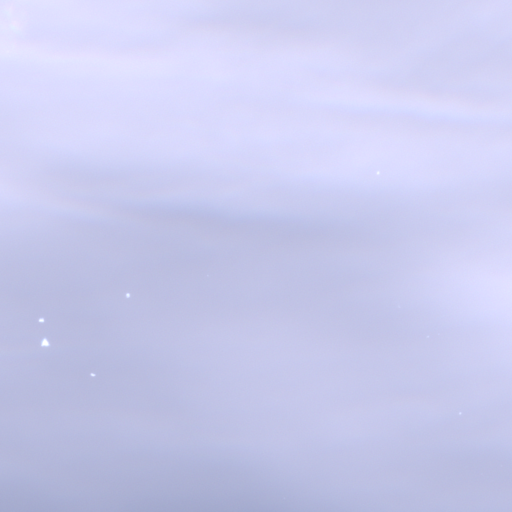Iceberg: (42, 338, 48, 345), (126, 293, 129, 297), (39, 318, 43, 321), (377, 171, 379, 174), (91, 373, 94, 375), (459, 412, 460, 414)
